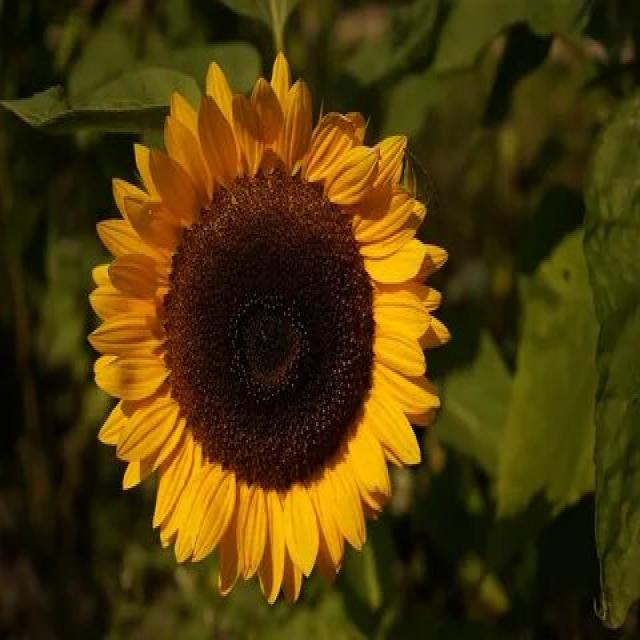sunflower: (70, 74, 458, 598)
